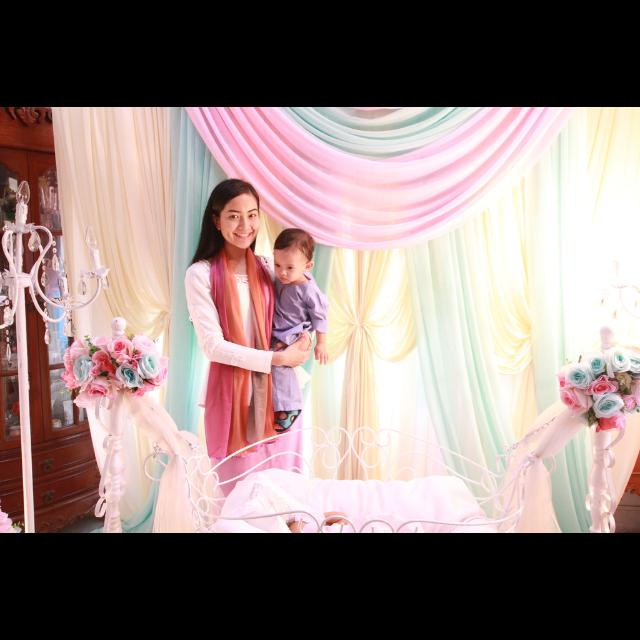Flower: (62, 319, 164, 407), (561, 346, 639, 434), (117, 361, 155, 387)
